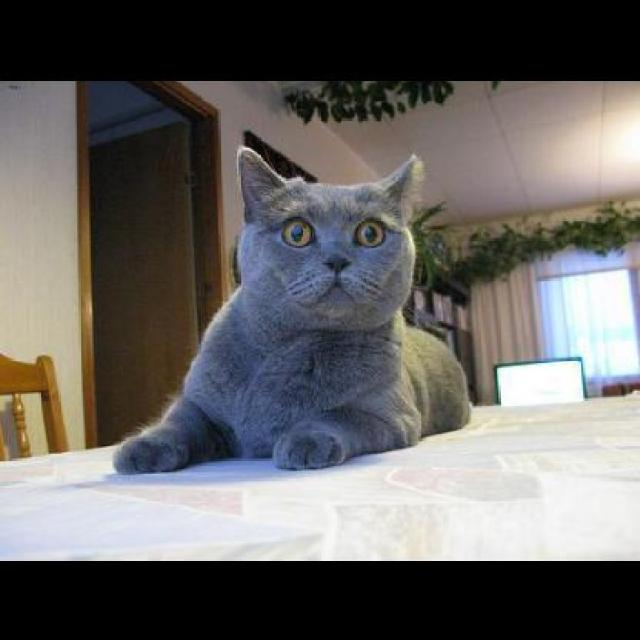unauthorized: (111, 143, 471, 474)
